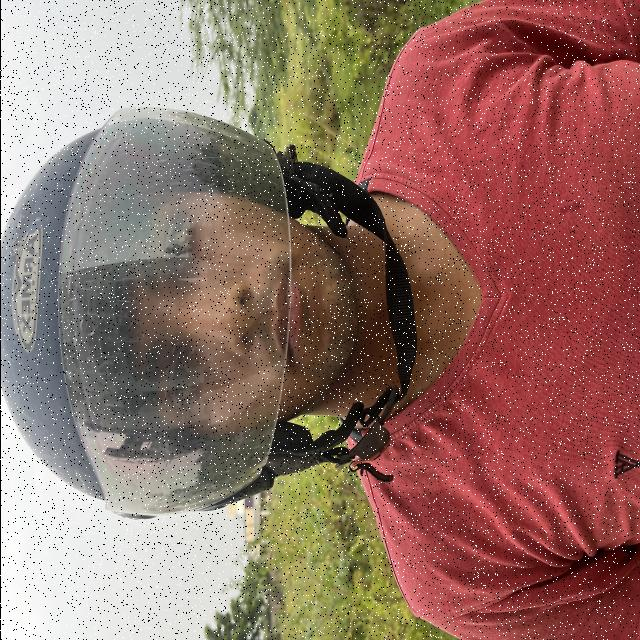Helmet: (0, 108, 290, 515)
